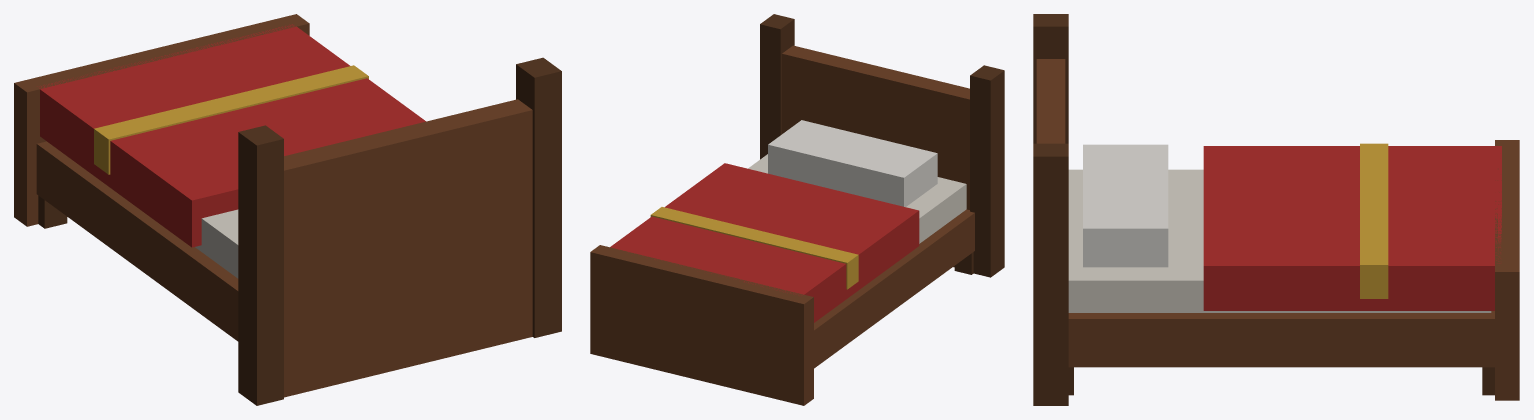
File: ld-bed.glb
3 renders of one model, left to right at view 1: azimuth 30°, elevation 25°; view 2: azimuth 150°, elevation 25°; view 3: azimuth 270°, elevation 25°, orthographic. The views are drawn at different scales.
Parts seen in each view (by area): view 1: box-prop; view 2: box-prop; view 3: box-prop.
Part boxes in pixels (left/top/right/bottom): box-prop: left=14, top=14, right=561, bottom=405; box-prop: left=590, top=14, right=1004, bottom=405; box-prop: left=1033, top=14, right=1519, bottom=405.
Bounding box in the file's own units: 1.9 × 1.55 × 2.74.
